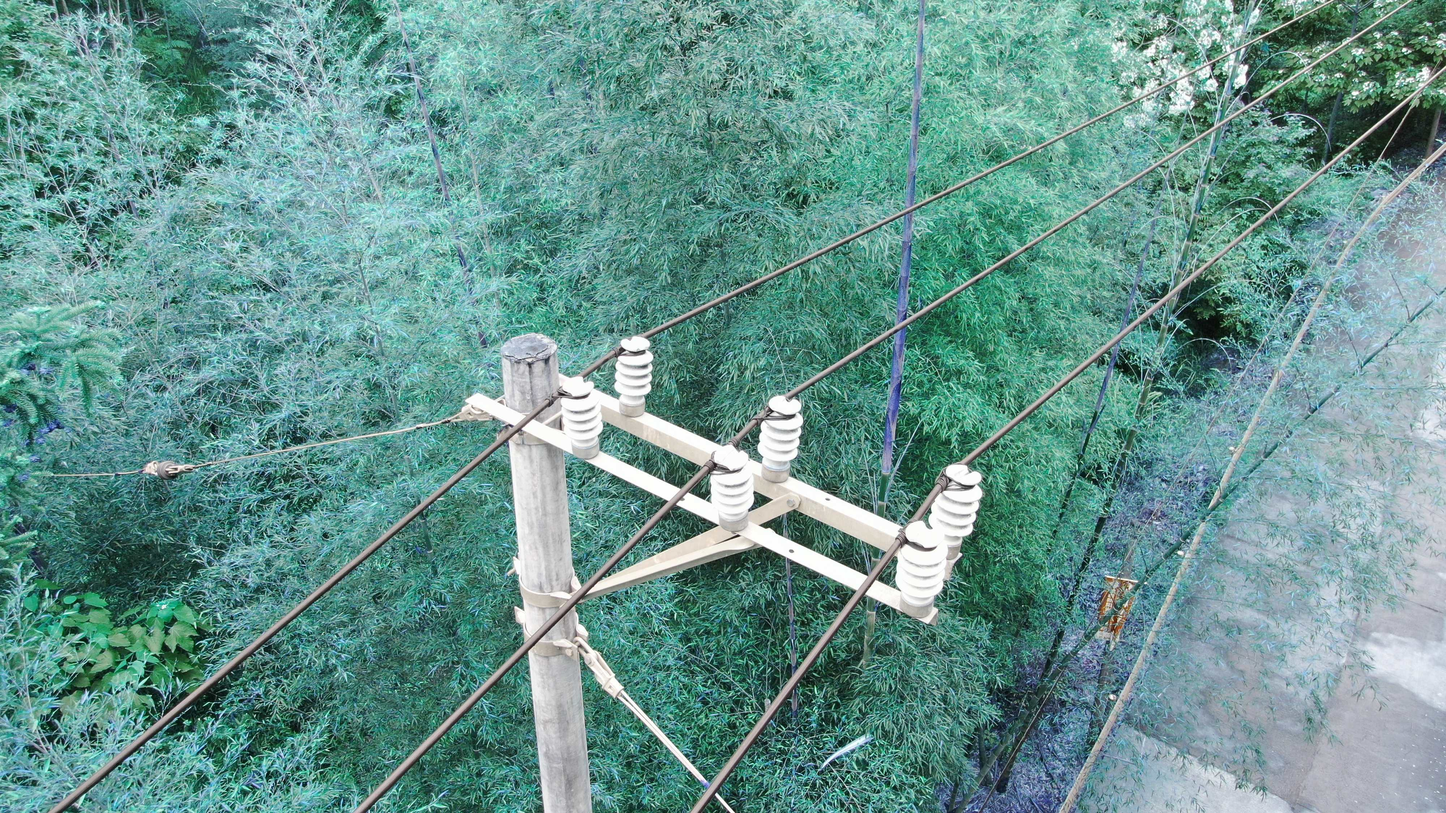severe_soiling_no_discharge_whole: (893, 520, 949, 618), (927, 463, 984, 558), (753, 393, 805, 479), (706, 444, 756, 528), (559, 378, 605, 456), (612, 336, 655, 419)
